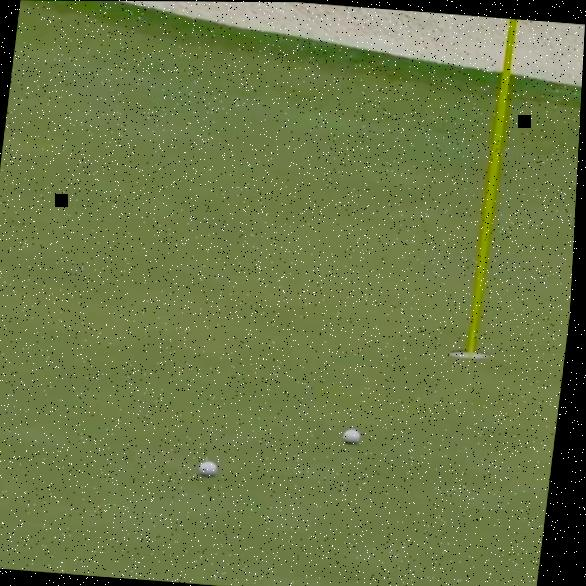GolfBall: (346, 427, 366, 443), (204, 460, 224, 474)
